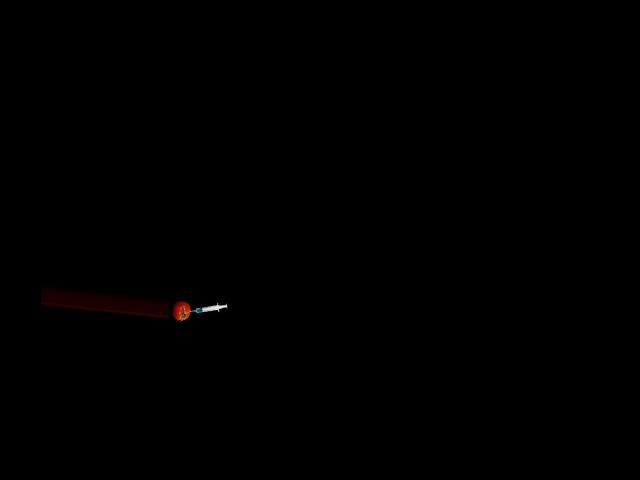tomato: (171, 300, 191, 321)
